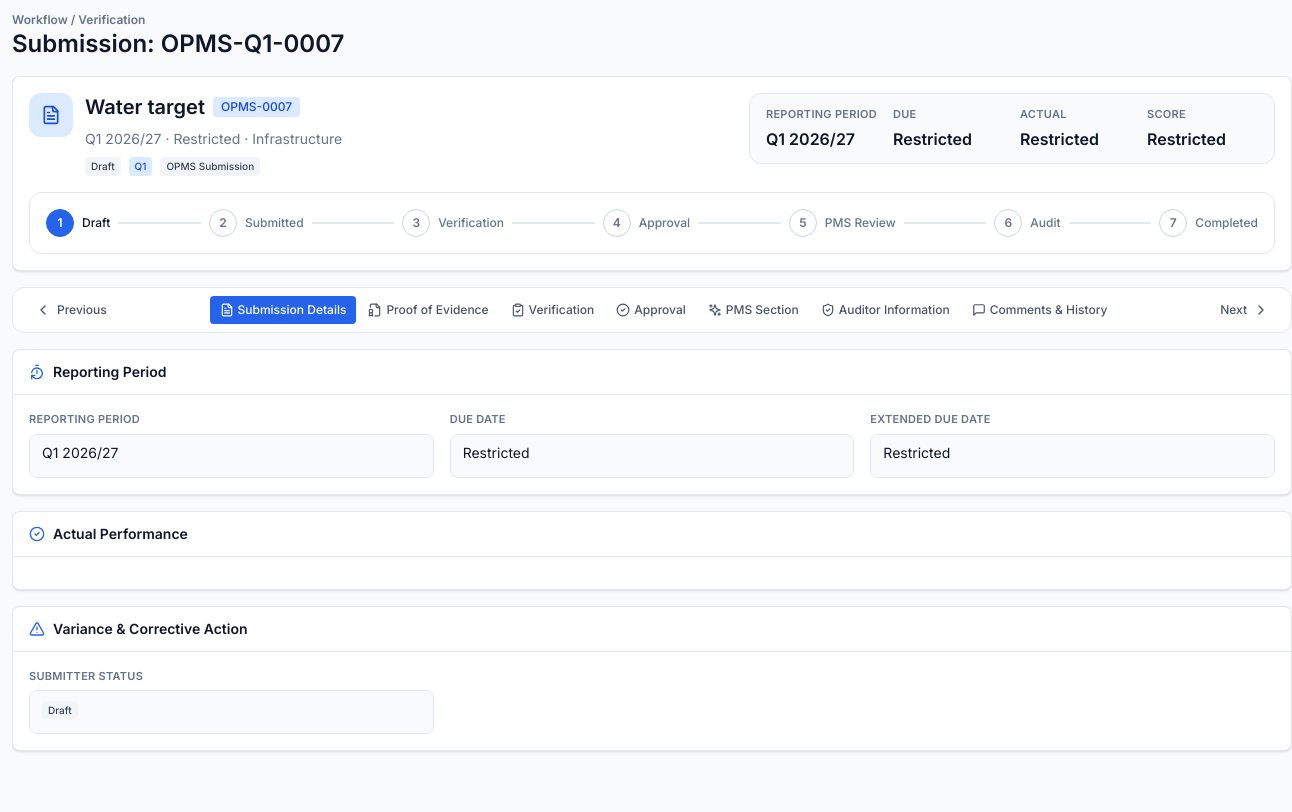
Test case: SubmissionWorkspace member security › does not render scanner detail supplied by the API without the POE member grant
Click the tab "Proof of Evidence".
click(428, 310)  # box 358,296 -> 499,324
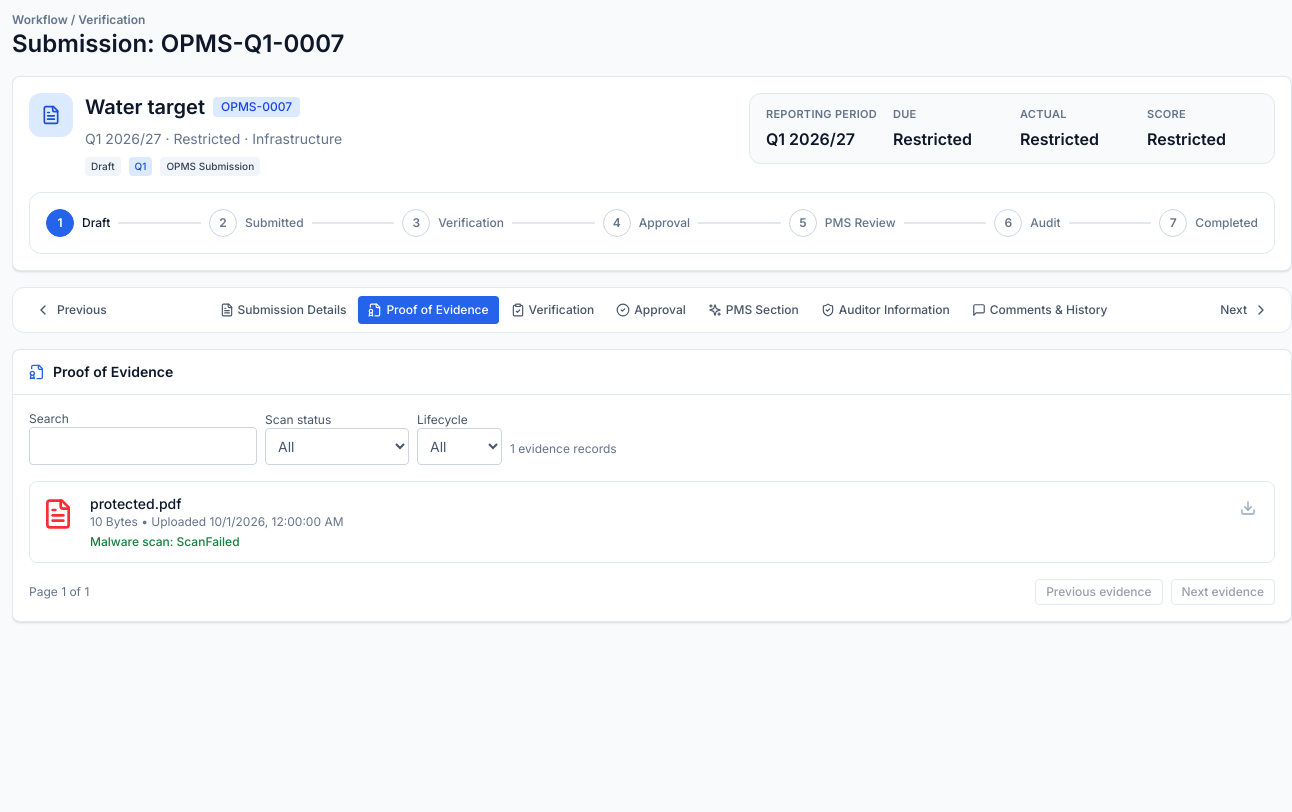
Expected: the text "protected.pdf" is shown, 90,495 -> 182,512
